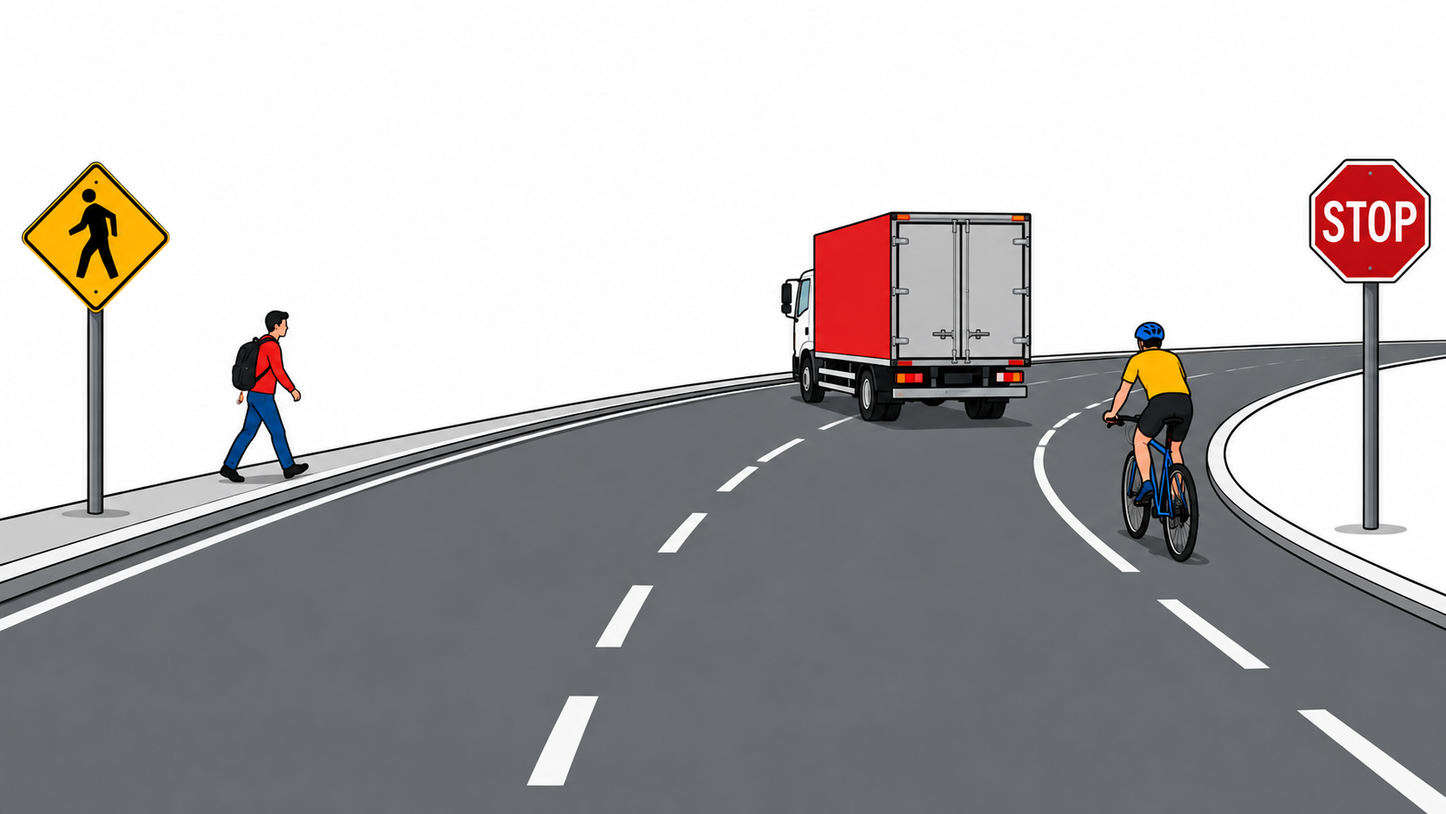bicycle: (1104, 396, 1206, 564)
crossing_warning_sign: (22, 162, 170, 312)
person: (1103, 323, 1196, 524), (216, 309, 310, 484)
stop_sign: (1308, 158, 1431, 285)
truck: (781, 211, 1033, 425)
